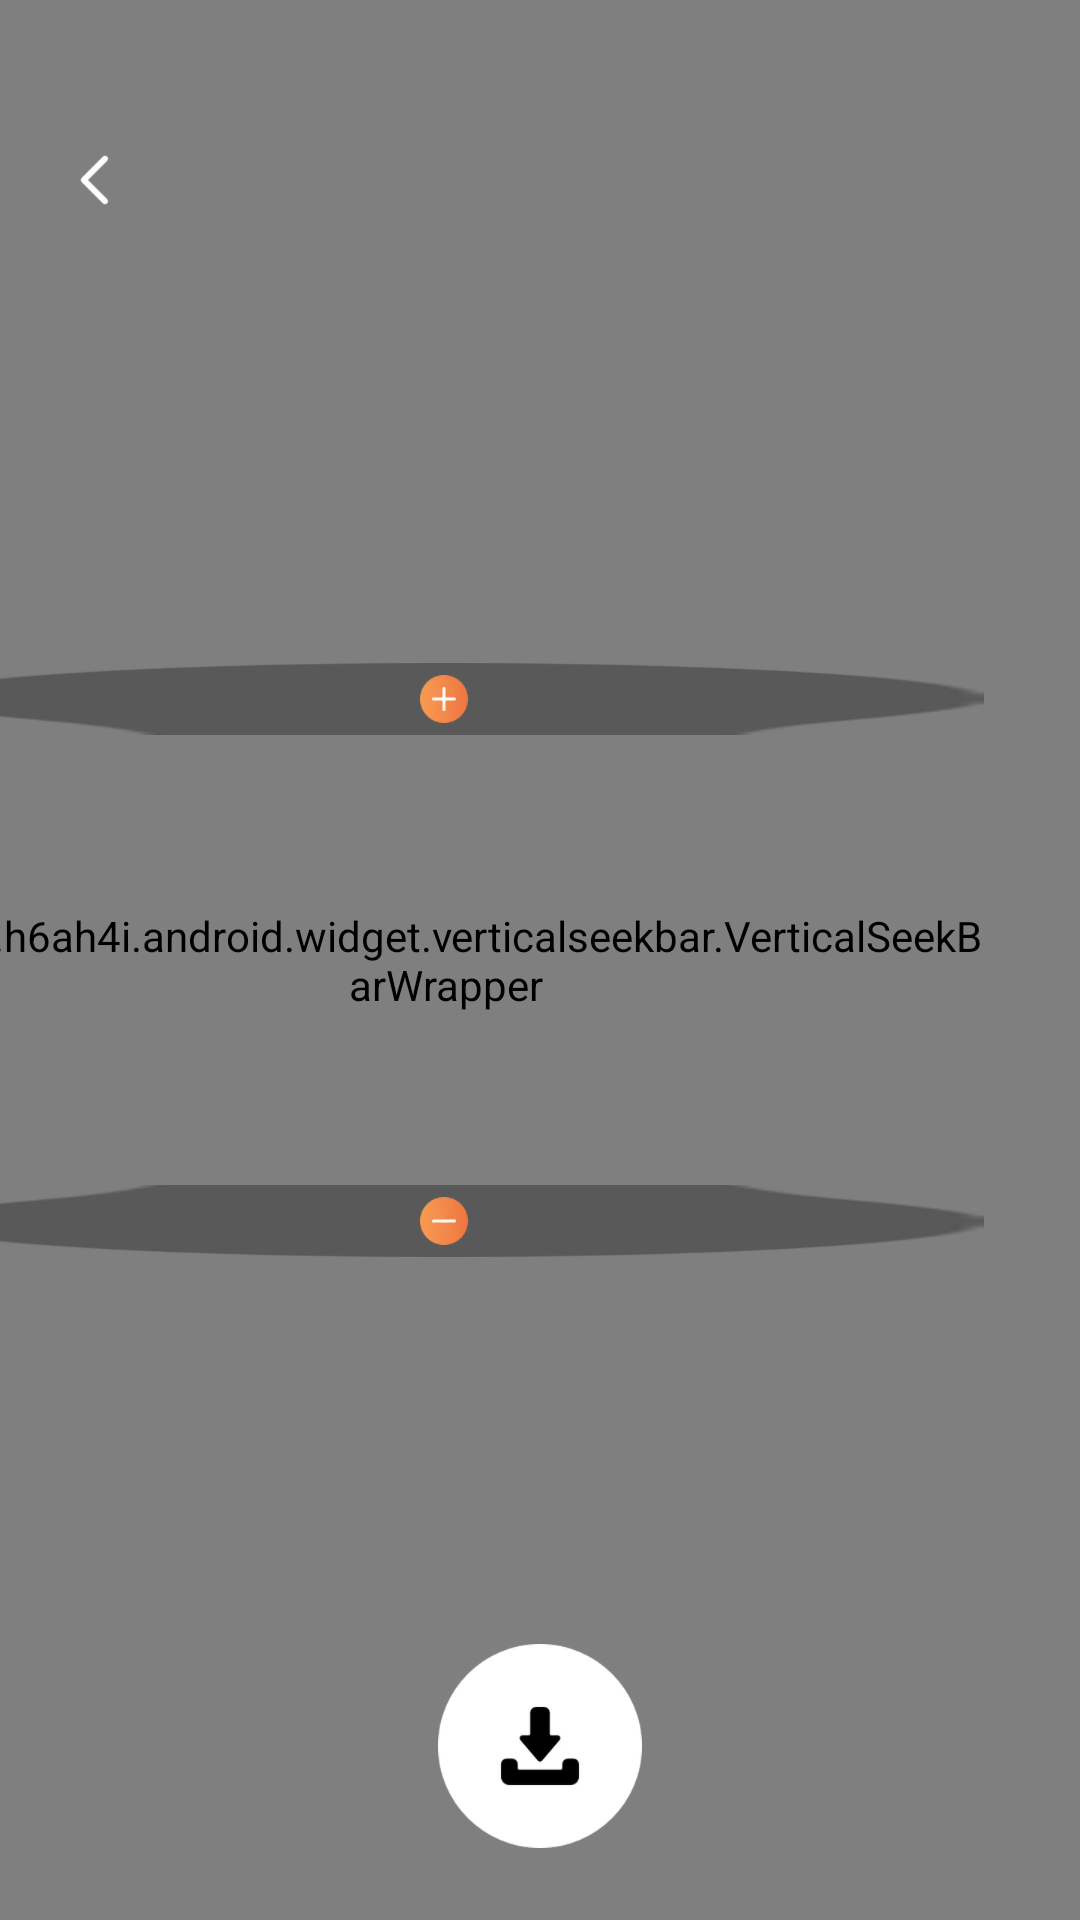

Where to tap for icons on this 1080*1920 app screen, as point (x, y):
add: point (444, 699)
back: point (94, 180)
download: point (540, 1746)
reduce: point (444, 1221)
